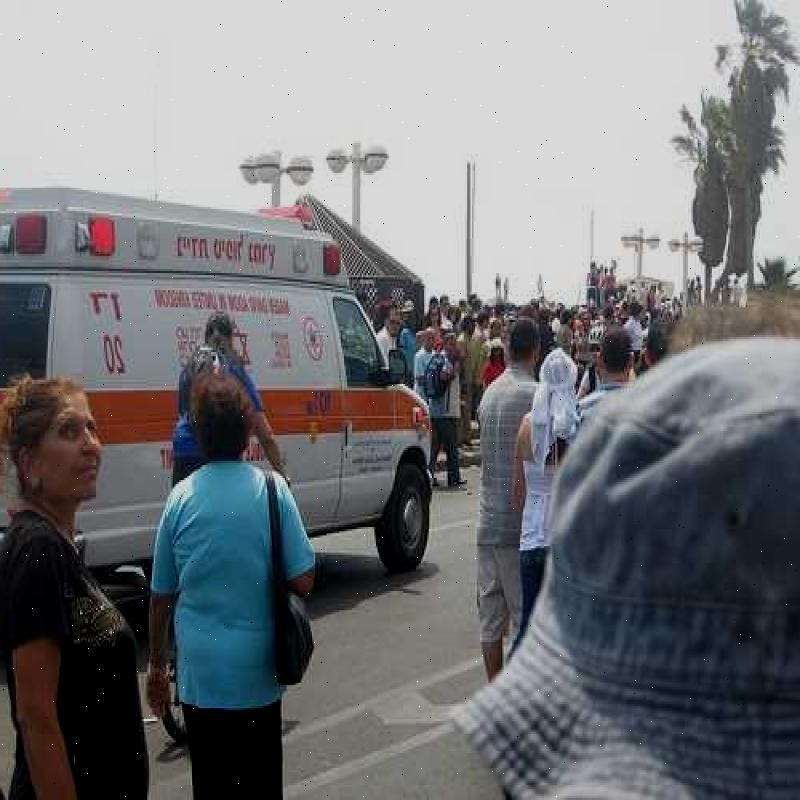AmbulanceSiren: (0, 199, 146, 290)
